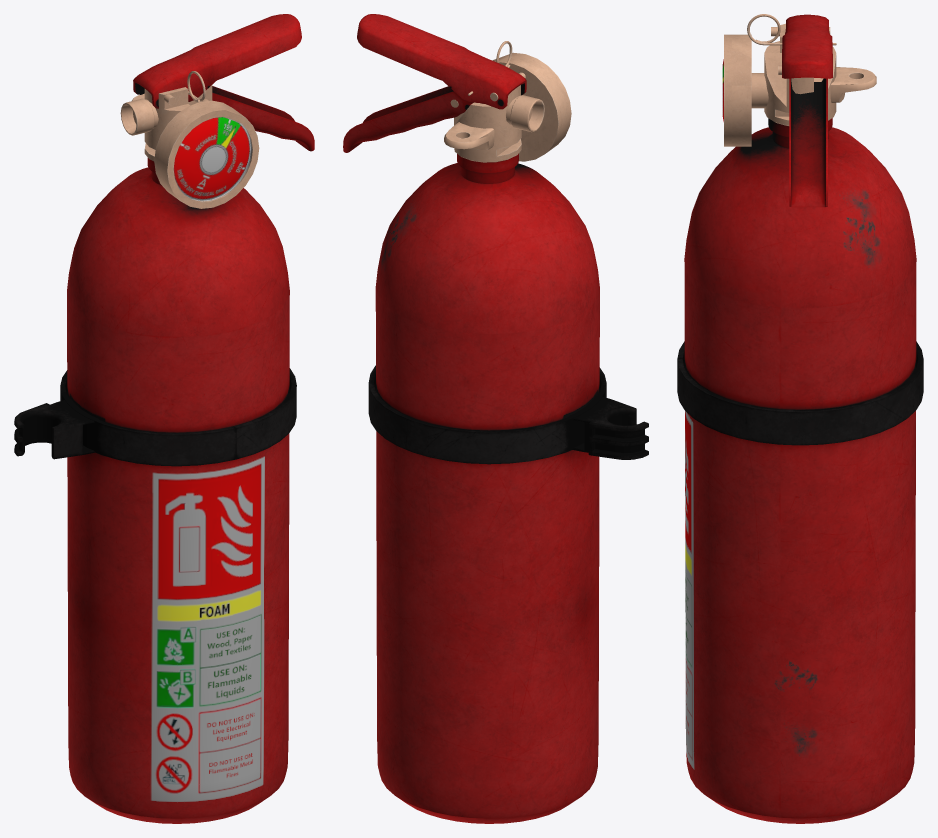
File: ExtinguisherBase.fbx
3 views of the same model, side by side, from view 1: azimuth 30°, elevation 25°; view 2: azimuth 150°, elevation 25°; view 3: azimuth 270°, elevation 25° (orthographic). The views are drawn at different scales.
Visible parts, largest first — view 1: Fire-extinguisherFoam, Moveable006, Moveable007; view 2: Fire-extinguisherFoam, Moveable006, Moveable007; view 3: Fire-extinguisherFoam, Moveable007, Moveable006.
Part boxes in pixels (left/top/right/bottom): Fire-extinguisherFoam: left=14, top=85, right=296, bottom=823; Moveable006: left=133, top=14, right=301, bottom=108; Moveable007: left=212, top=86, right=314, bottom=151; Fire-extinguisherFoam: left=368, top=52, right=648, bottom=823; Moveable006: left=357, top=14, right=526, bottom=109; Moveable007: left=343, top=86, right=483, bottom=152; Fire-extinguisherFoam: left=677, top=23, right=923, bottom=823; Moveable007: left=789, top=78, right=827, bottom=207; Moveable006: left=782, top=14, right=832, bottom=78.
Size of the model in its own units: 35.95 by 87.79 by 24.8.
